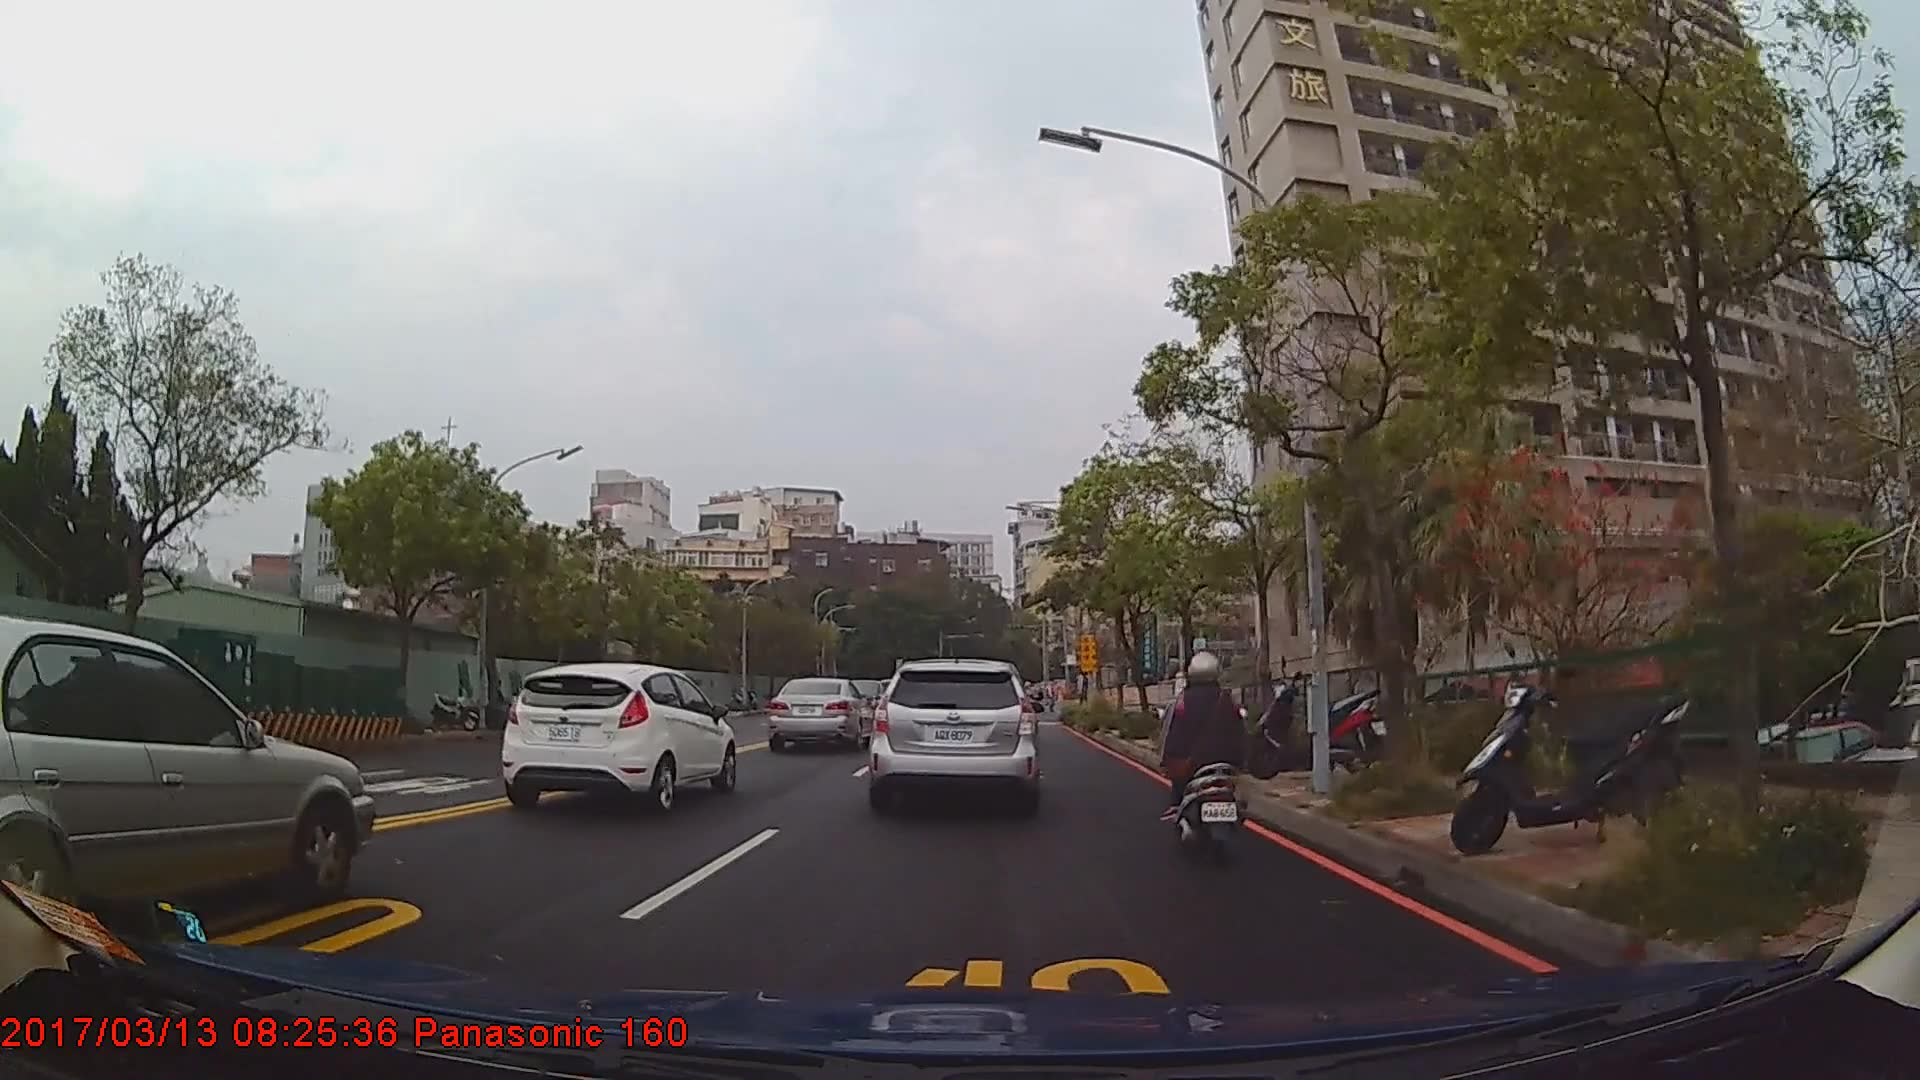rider: (1158, 651, 1244, 864)
vehicle: (0, 612, 373, 937), (500, 661, 735, 818), (869, 657, 1039, 817), (768, 675, 874, 755)
